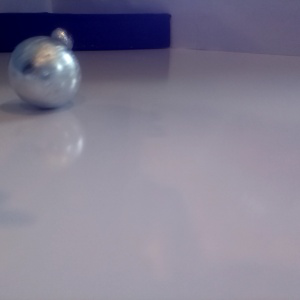zone: (1, 12, 171, 52)
